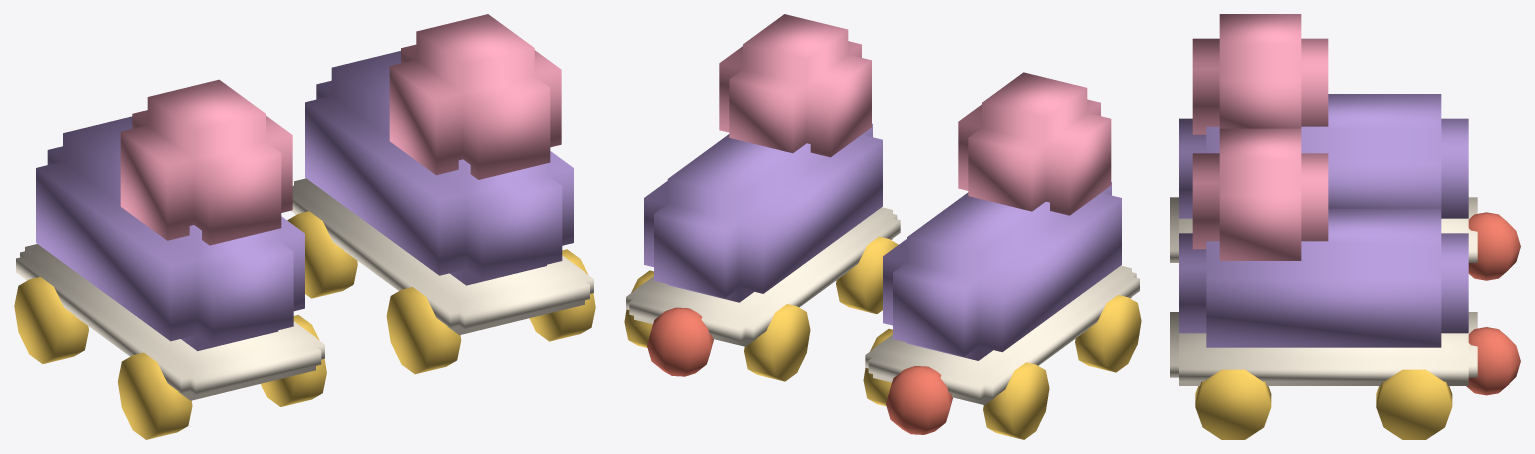
File: RollerSkates.fbx
3 views of the same model, side by side, from view 1: azimuth 30°, elevation 25°; view 2: azimuth 150°, elevation 25°; view 3: azimuth 270°, elevation 25° (orthographic). The views are drawn at different scales.
Parts seen in each view (by area): view 1: RollerSkates; view 2: RollerSkates; view 3: RollerSkates.
Boxes of the visible parts, <box> form: RollerSkates: <box>14,14,595,439</box>; RollerSkates: <box>624,14,1141,439</box>; RollerSkates: <box>1170,14,1520,439</box>.
Size of the model in its own units: 0.485 by 0.3179 by 0.388.
